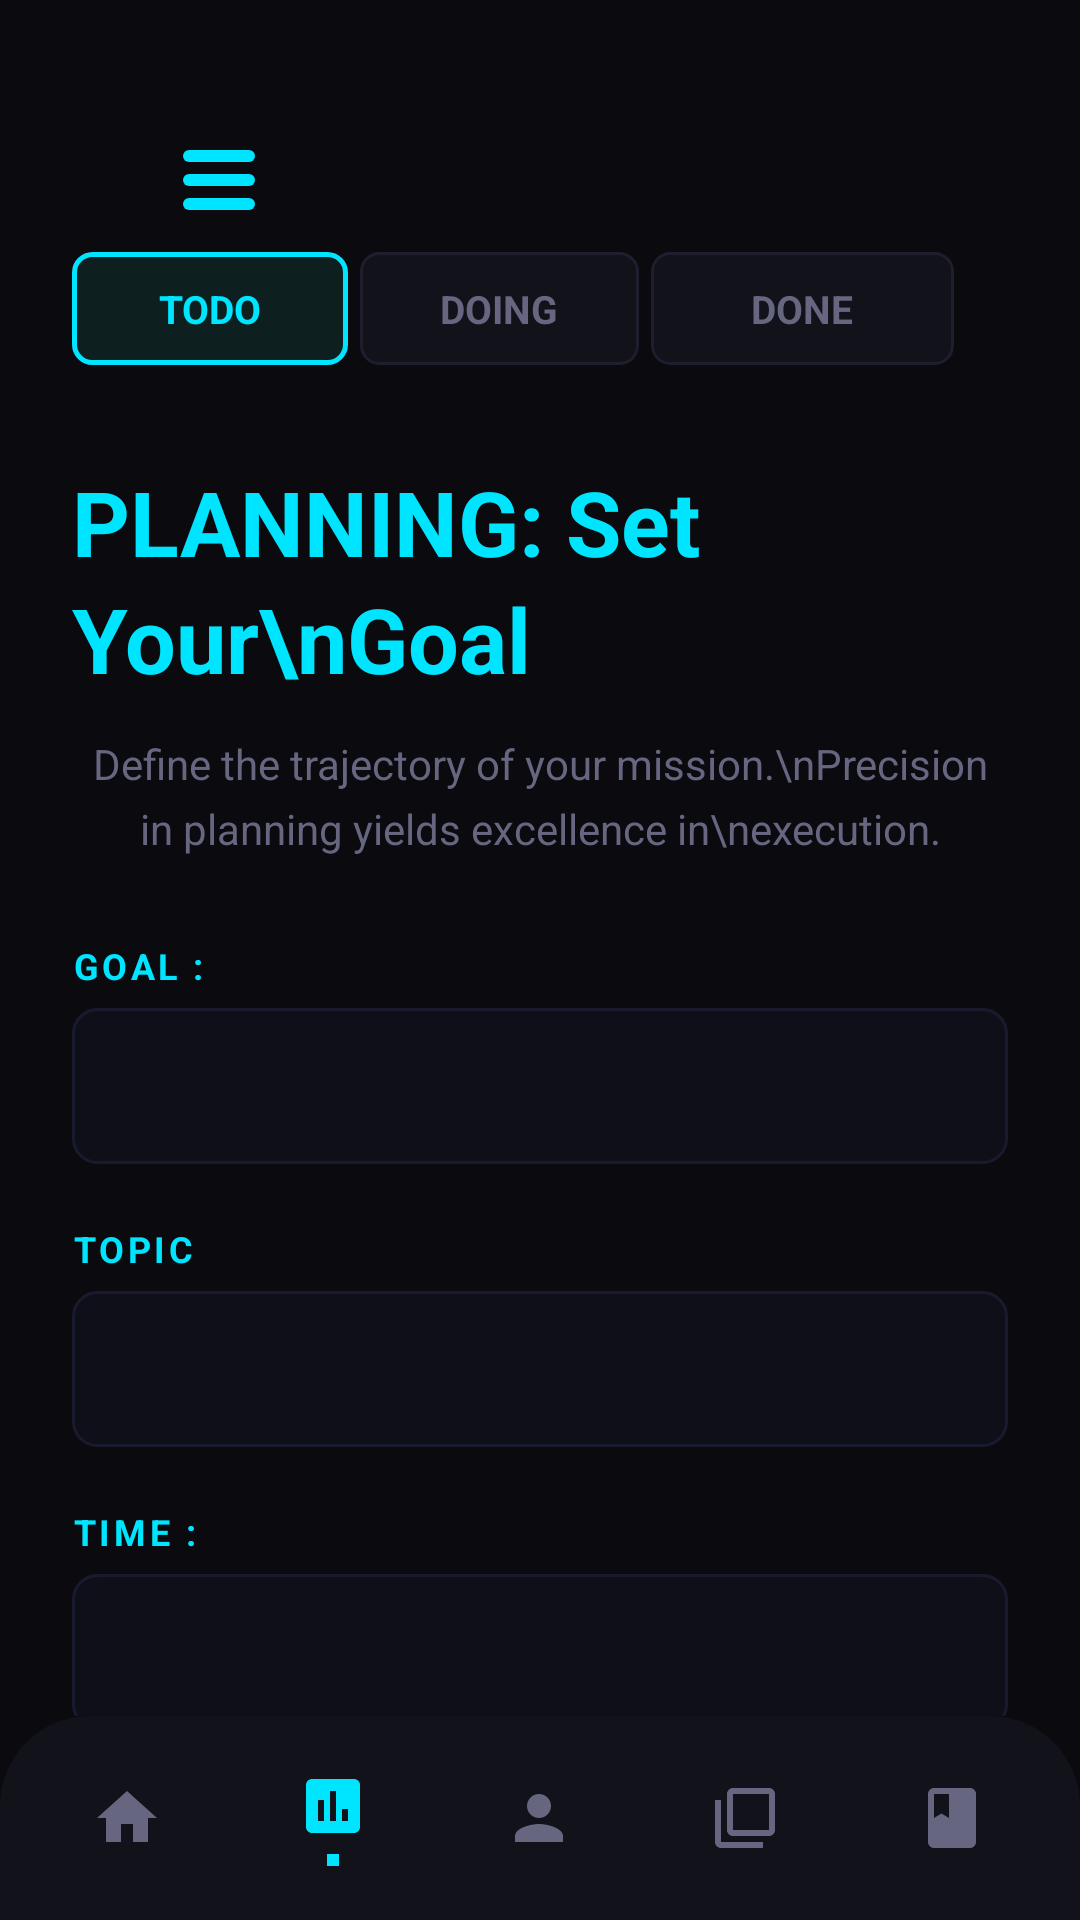

Where icons sit on this 1080w x 1920h app screen, as (x1, y1, x2, y2):
book: (928, 1788, 976, 1848)
chart: (306, 1779, 360, 1833)
home: (97, 1791, 157, 1842)
menu: (183, 150, 255, 210)
modules: (715, 1788, 775, 1848)
person: (515, 1794, 563, 1842)
